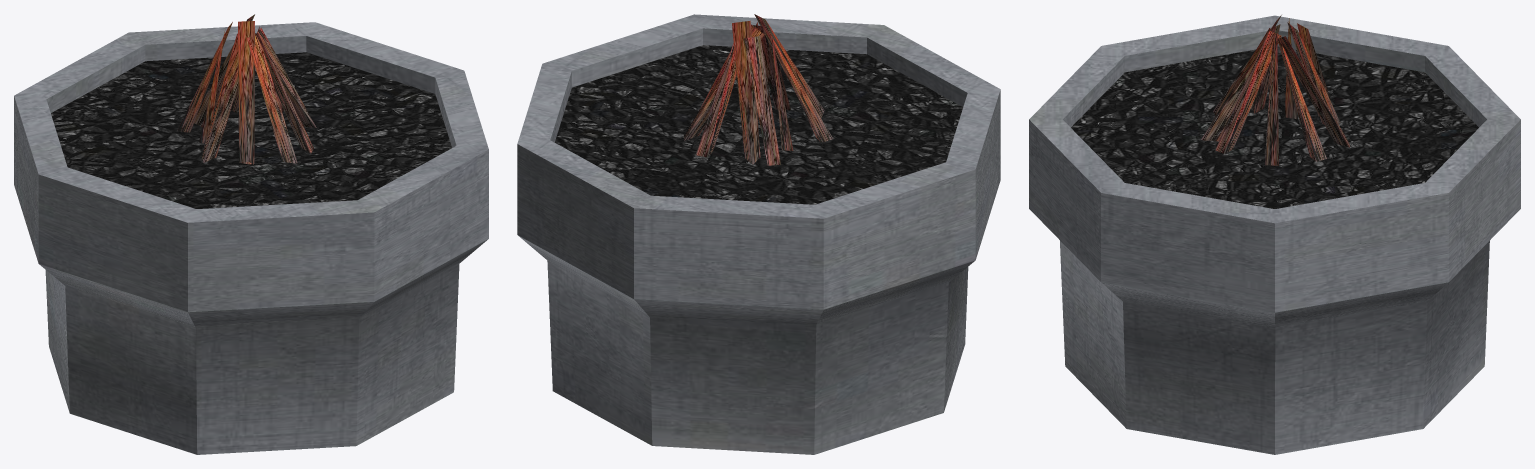
Rendered from cauldron.glb.
3 views of the same model, side by side, from view 1: azimuth 30°, elevation 25°; view 2: azimuth 150°, elevation 25°; view 3: azimuth 270°, elevation 25° (orthographic).
Parts seen in each view (by area): view 1: Хочуол; view 2: Хочуол; view 3: Хочуол.
Part boxes in pixels (x1,y1,x2,y2): Хочуол: (14, 14, 488, 454); Хочуол: (517, 14, 1000, 454); Хочуол: (1029, 15, 1520, 454).
Bounding box in the file's own units: 1.06 × 0.8253 × 1.06.
3 materials, 3 textured.
